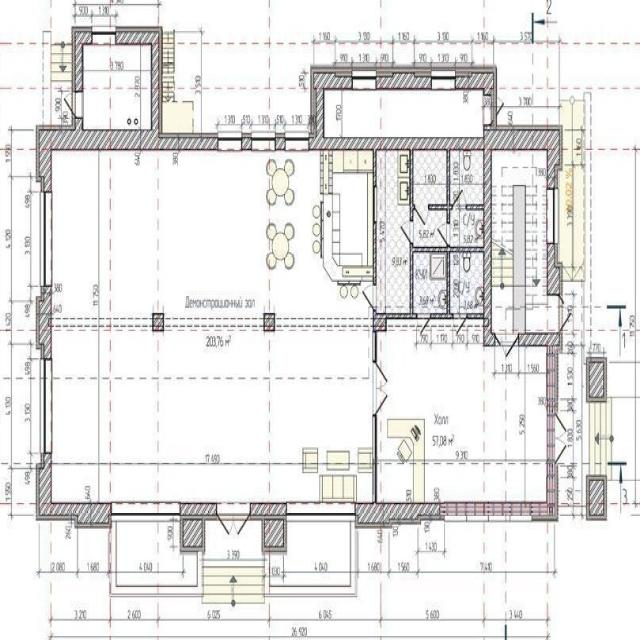Bathrooms: (378, 152, 410, 310), (414, 253, 447, 312), (451, 254, 483, 313), (451, 152, 483, 203), (452, 213, 483, 246)
Corridors: (378, 321, 546, 500), (324, 91, 484, 137), (108, 522, 204, 598), (263, 522, 359, 597), (558, 283, 586, 518), (85, 47, 150, 129), (415, 152, 446, 203), (415, 211, 446, 246)
Doors: (217, 502, 251, 540), (547, 414, 568, 466), (372, 363, 391, 416), (548, 294, 573, 333), (483, 93, 506, 127), (495, 332, 518, 360), (62, 90, 84, 118), (361, 283, 378, 311), (452, 312, 468, 338), (417, 312, 432, 338), (436, 221, 451, 247), (400, 218, 414, 244), (414, 204, 430, 226), (452, 187, 467, 210), (373, 187, 377, 223)
LBwalls: (36, 26, 218, 193), (35, 453, 112, 529), (483, 125, 563, 187), (309, 65, 352, 150), (354, 502, 441, 529), (250, 502, 287, 554), (179, 502, 216, 553), (71, 26, 92, 93), (378, 67, 431, 91), (35, 286, 52, 360), (456, 65, 496, 93), (585, 474, 607, 522), (587, 357, 607, 403), (547, 244, 563, 296), (373, 312, 387, 332), (263, 313, 276, 333), (152, 312, 164, 332), (241, 131, 252, 151), (275, 132, 286, 152)
Offices: (52, 150, 372, 502)
Stairs: (493, 150, 547, 331), (558, 93, 585, 283), (164, 26, 194, 133), (202, 558, 265, 606), (586, 396, 615, 481), (50, 26, 71, 124)
Walls: (388, 244, 483, 320), (483, 150, 495, 347), (428, 150, 453, 223), (324, 139, 484, 150), (518, 332, 560, 347), (372, 416, 377, 502), (373, 222, 377, 284), (373, 150, 377, 188), (411, 150, 413, 221), (373, 331, 377, 363), (467, 204, 484, 210)
Windows: (441, 464, 558, 521), (111, 501, 180, 523), (287, 502, 356, 522), (40, 192, 52, 286), (40, 360, 52, 453), (546, 345, 557, 414), (546, 188, 559, 244), (352, 67, 376, 91), (431, 69, 455, 91), (92, 25, 116, 46), (252, 131, 275, 151), (286, 131, 309, 151), (218, 132, 241, 151)
